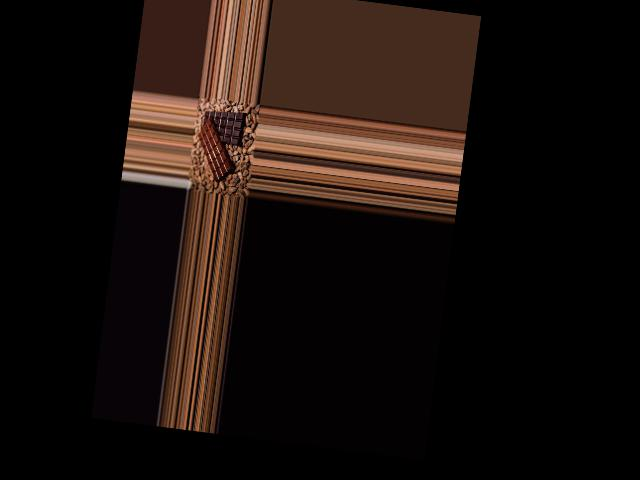chocolate: (198, 103, 248, 146)
